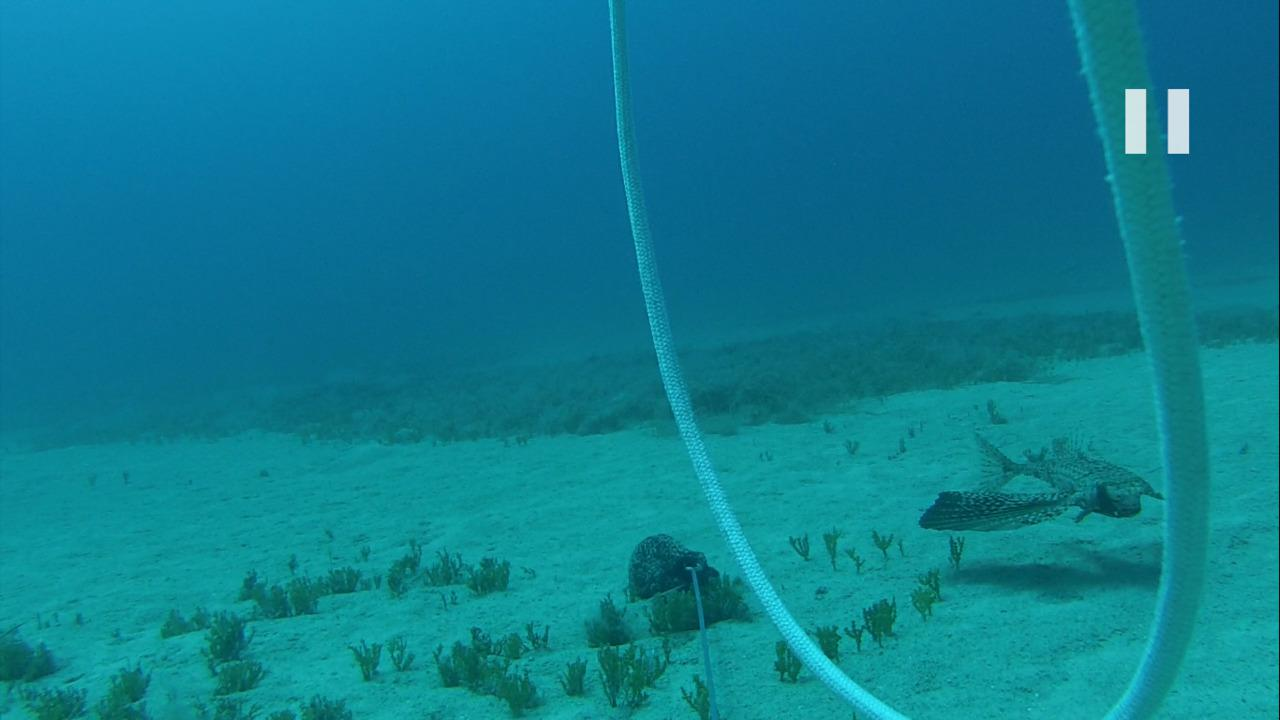dactylopterus: (913, 431, 1162, 539)
